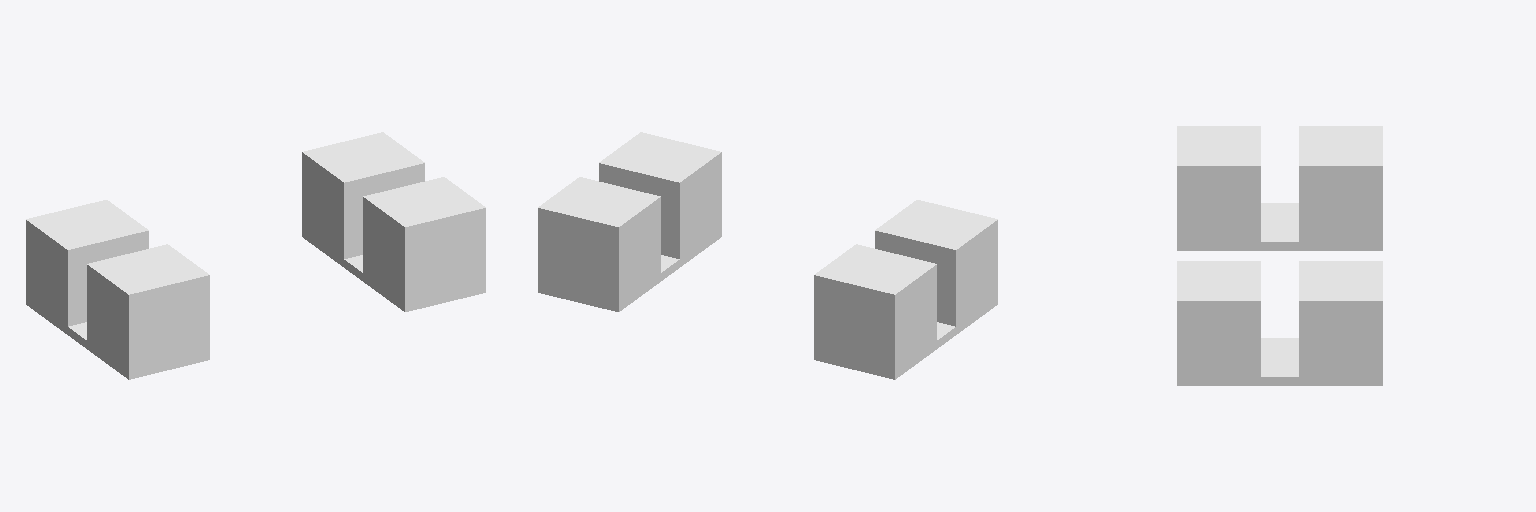
The model's file is DoorWalls.obj.
3 views of the same model, side by side, from view 1: azimuth 30°, elevation 25°; view 2: azimuth 150°, elevation 25°; view 3: azimuth 270°, elevation 25° (orthographic).
Bounding box in the file's own units: 44 × 10 × 22.